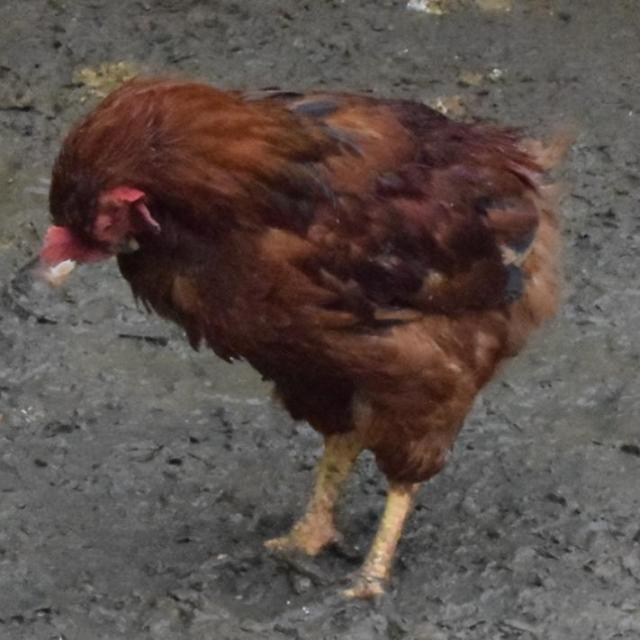cook: (42, 78, 567, 599)
